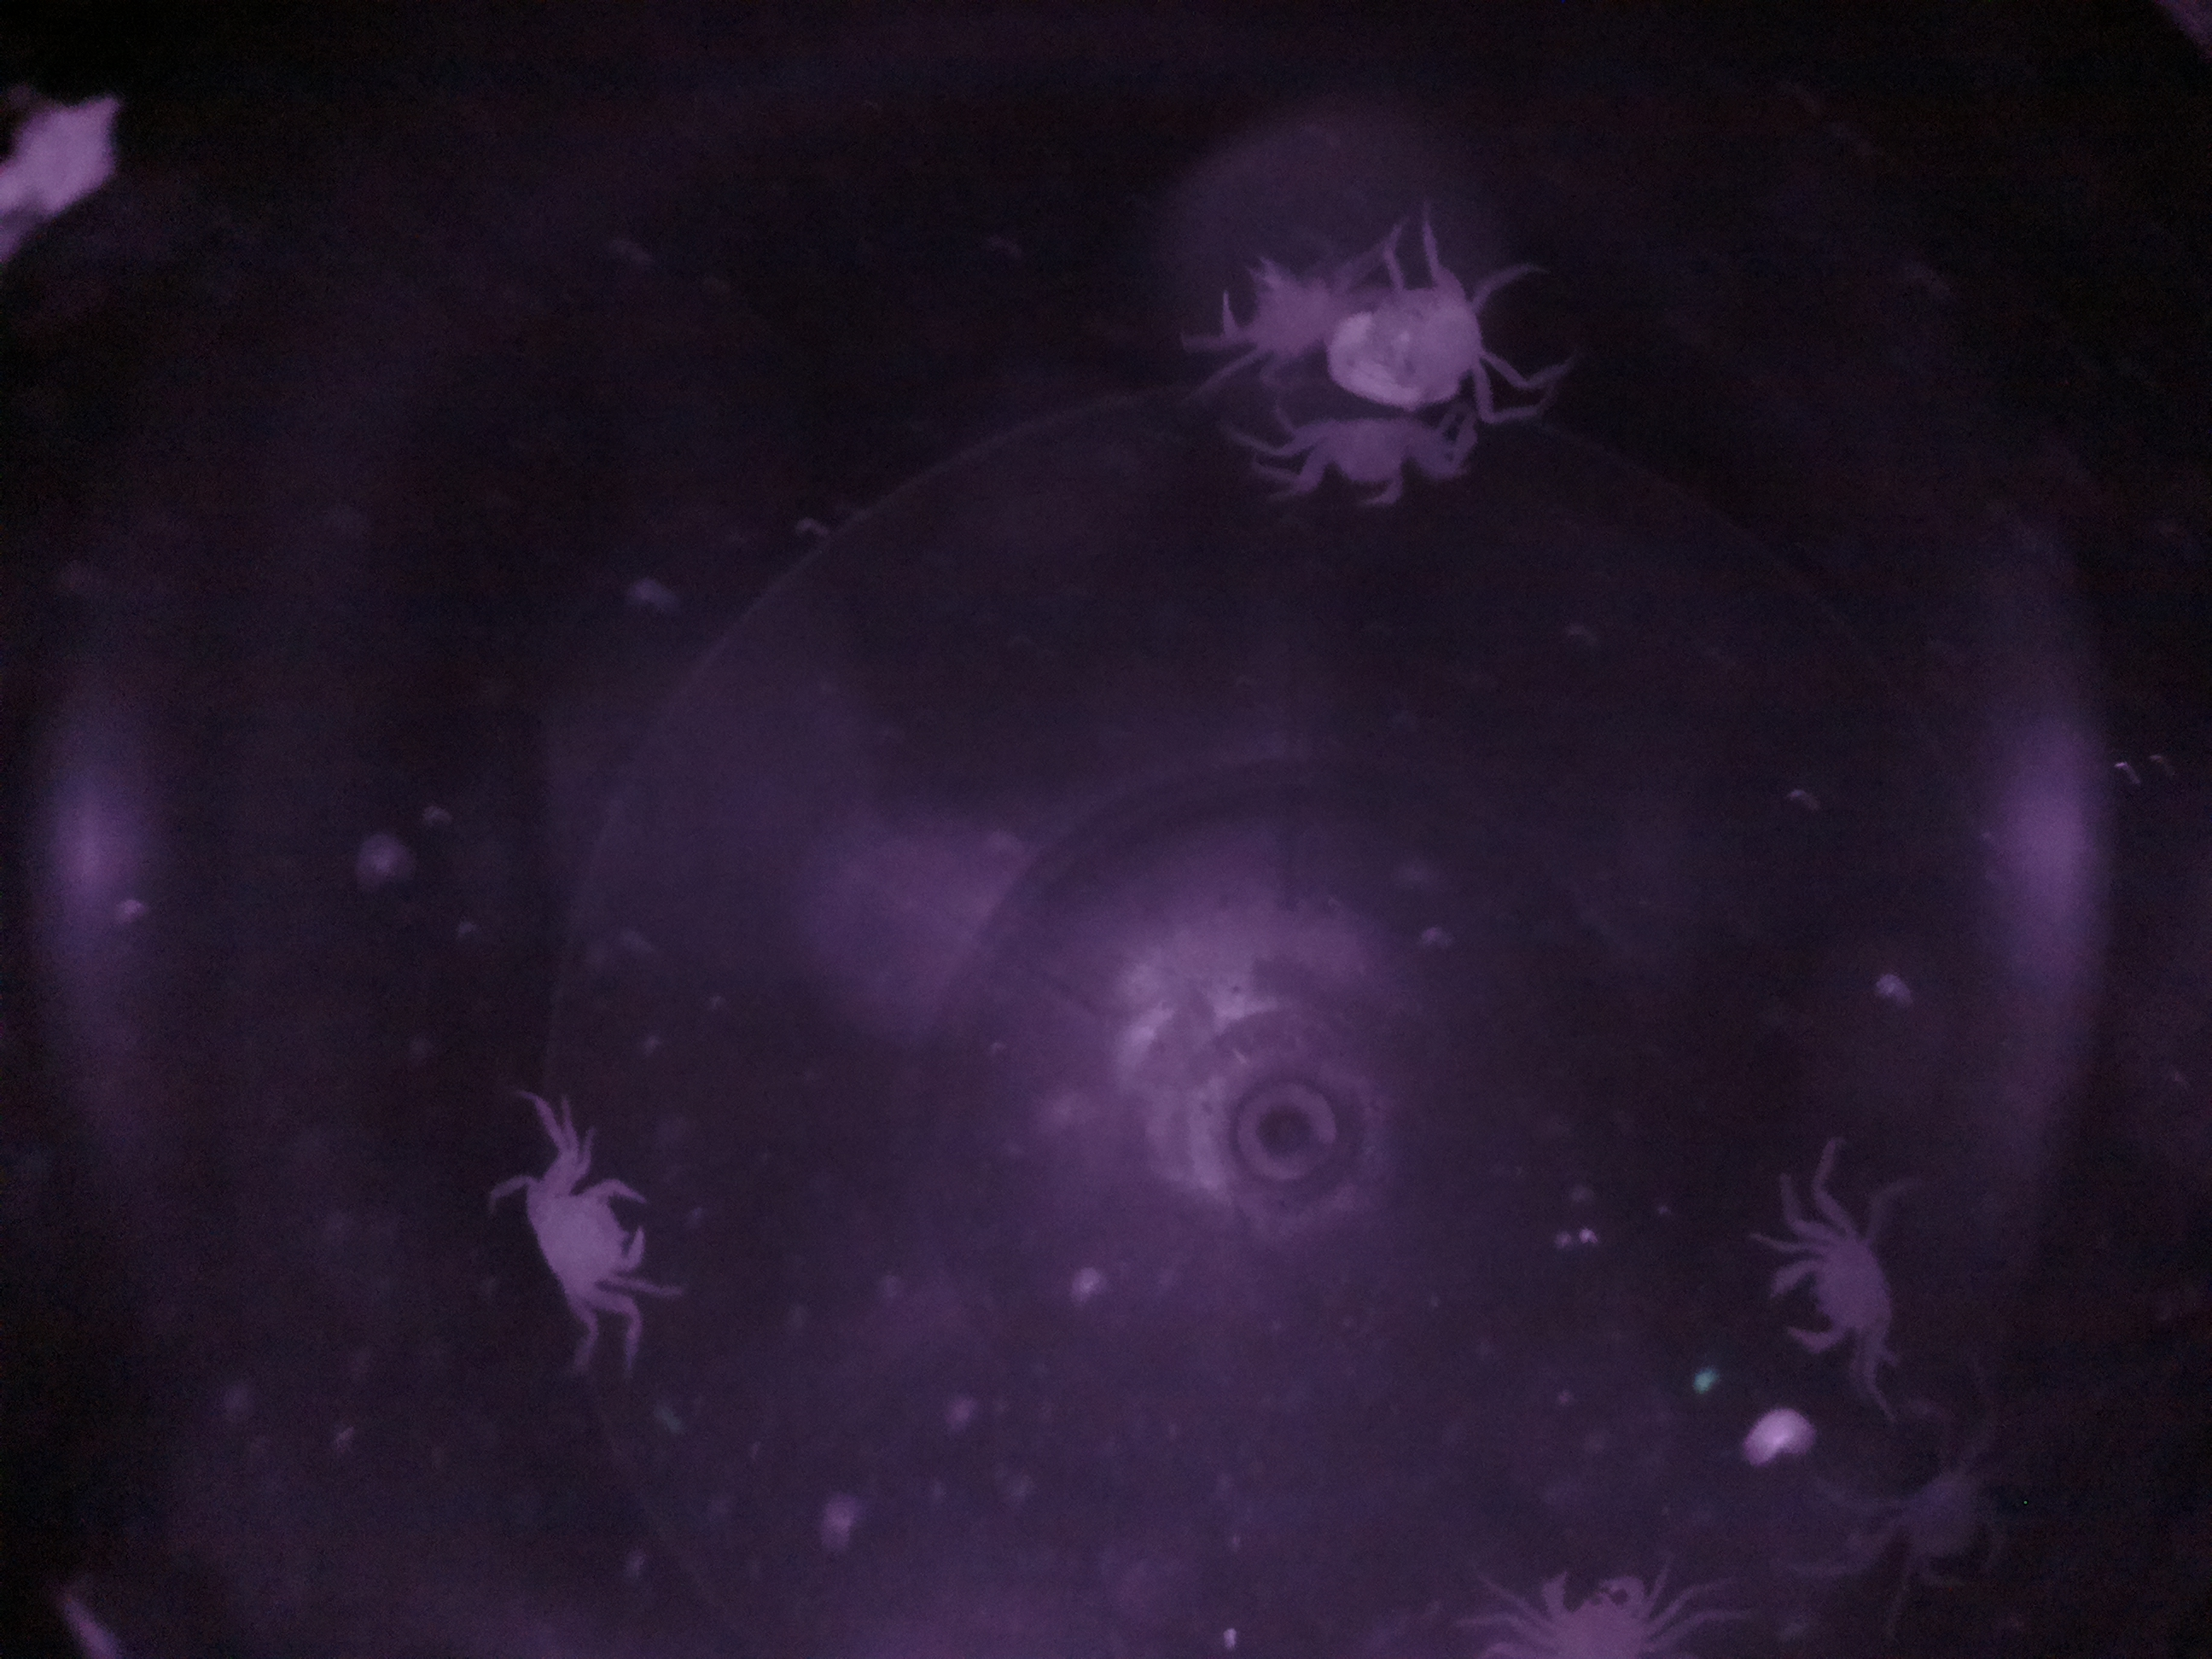Crab: (1740, 1187, 1932, 1382), (489, 1140, 674, 1330)
